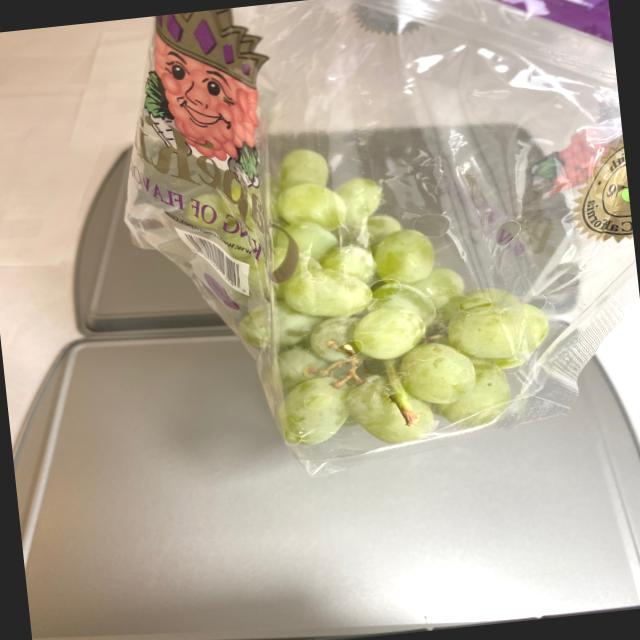grapes: (162, 118, 556, 462)
